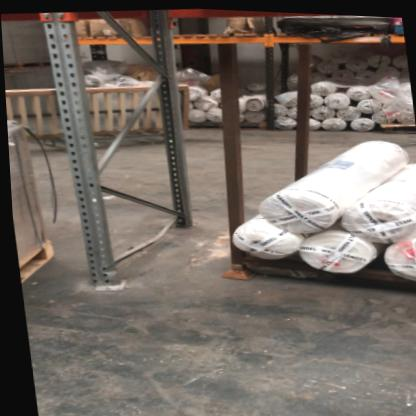vertical_damage: (75, 255, 134, 295)
